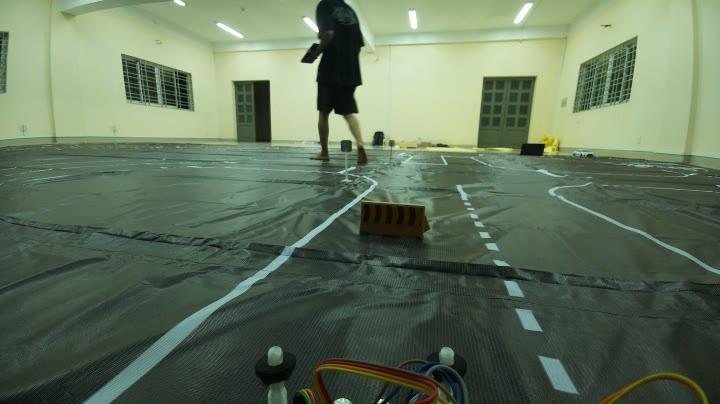roadblock: (354, 194, 439, 248)
